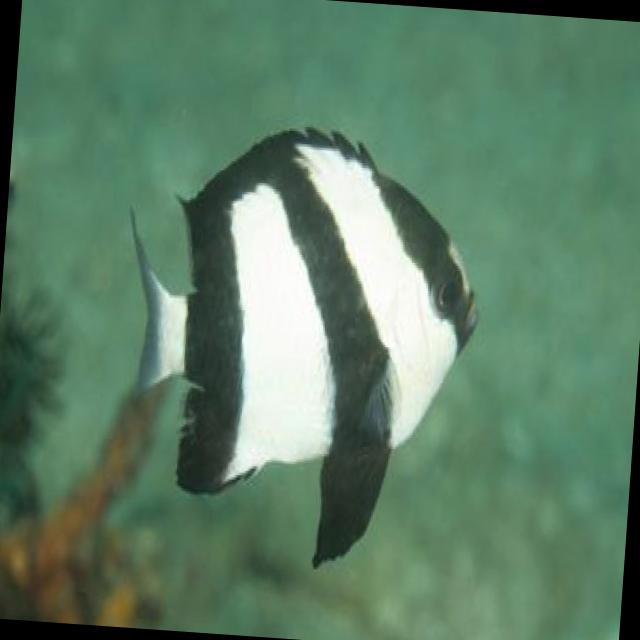ThreeStripedDamselfish: (143, 126, 480, 569)
